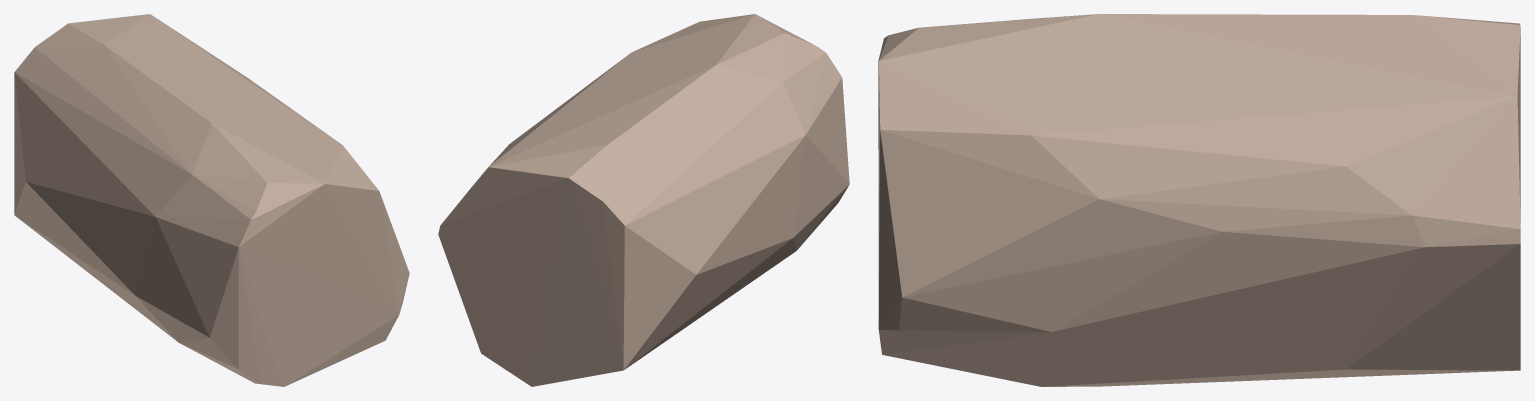
The model's file is container_jar_glass_black_a01.glb.
3 renders of one model, left to right at view 1: azimuth 30°, elevation 25°; view 2: azimuth 150°, elevation 25°; view 3: azimuth 270°, elevation 25°, orthographic. The views are drawn at different scales.
Parts seen in each view (by area): view 1: geometry_0; view 2: geometry_0; view 3: geometry_0.
Part boxes in pixels (x1,y1,x2,y2): geometry_0: (14,14,409,386); geometry_0: (438,14,849,386); geometry_0: (878,14,1520,386).
Size of the model in its own units: 0.2767 by 0.2679 by 0.48.
